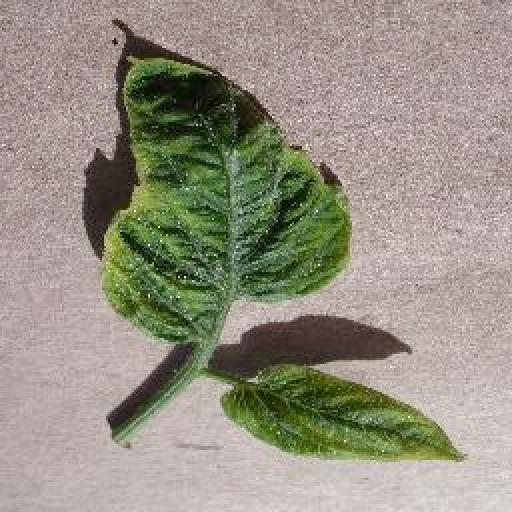disease_tomato: (100, 55, 352, 345), (218, 366, 466, 466)
